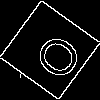O: (24, 25, 85, 84)
